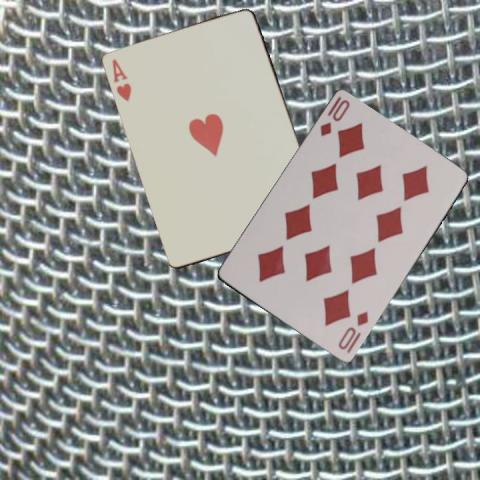10d: (317, 93, 351, 139), (335, 309, 370, 352)
Ah: (110, 56, 134, 103)
